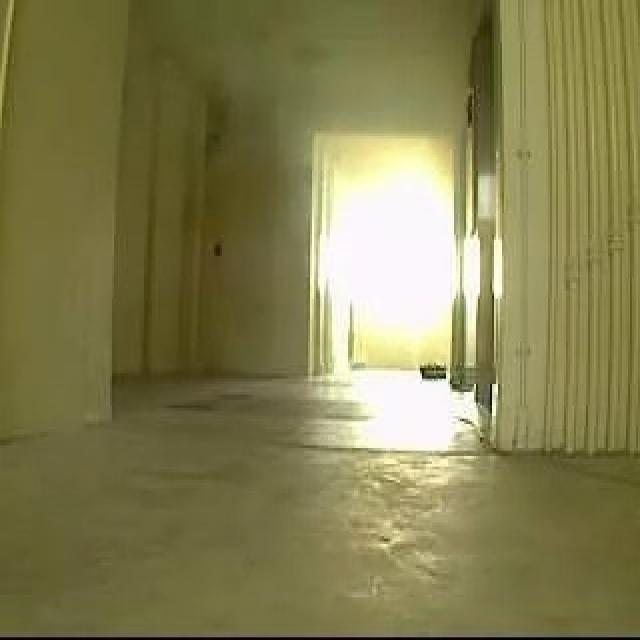smoke: (217, 52, 358, 210)
